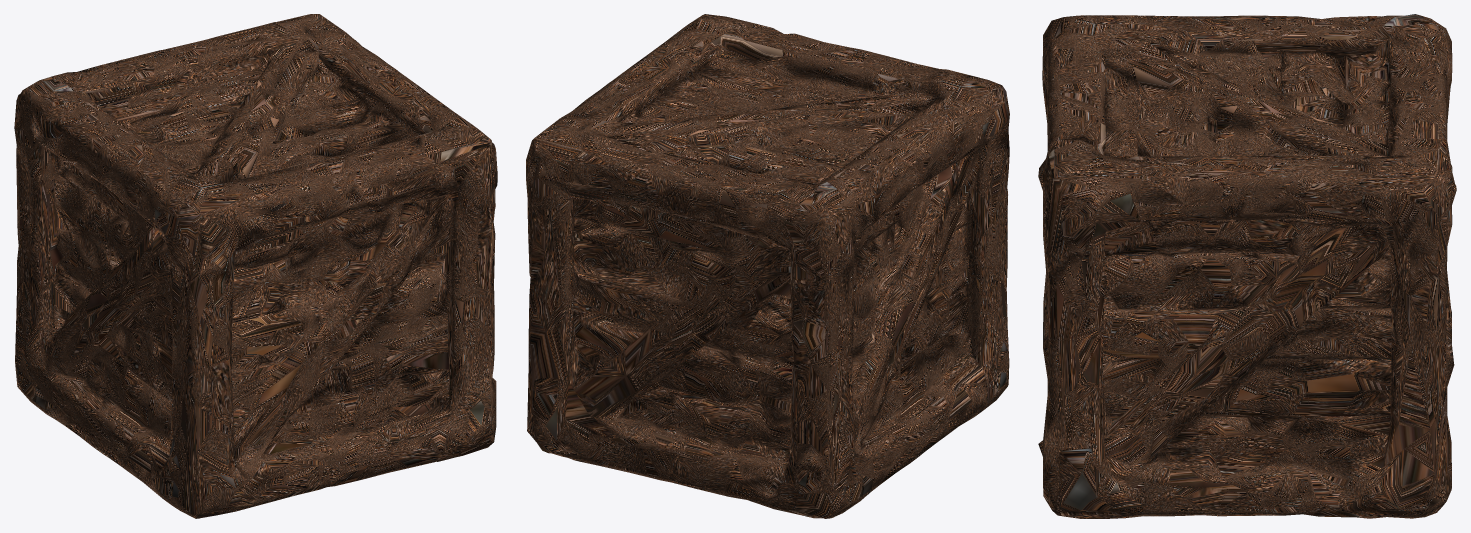
File: sandik.glb
3 renders of one model, left to right at view 1: azimuth 30°, elevation 25°; view 2: azimuth 150°, elevation 25°; view 3: azimuth 270°, elevation 25°, orthographic. The views are drawn at different scales.
Visible parts, largest first — view 1: tripo_node_956c02a4-6255-4cc8-9b8d-8a2f640c98d8; view 2: tripo_node_956c02a4-6255-4cc8-9b8d-8a2f640c98d8; view 3: tripo_node_956c02a4-6255-4cc8-9b8d-8a2f640c98d8.
Boxes of the visible parts, x1=… form: tripo_node_956c02a4-6255-4cc8-9b8d-8a2f640c98d8: x1=14, y1=14, x2=497, y2=518; tripo_node_956c02a4-6255-4cc8-9b8d-8a2f640c98d8: x1=526, y1=14, x2=1009, y2=518; tripo_node_956c02a4-6255-4cc8-9b8d-8a2f640c98d8: x1=1038, y1=14, x2=1456, y2=518.
Size of the model in its own units: 0.9503 by 0.9278 by 0.9766.
Materials: 1 (1 with a texture image).
